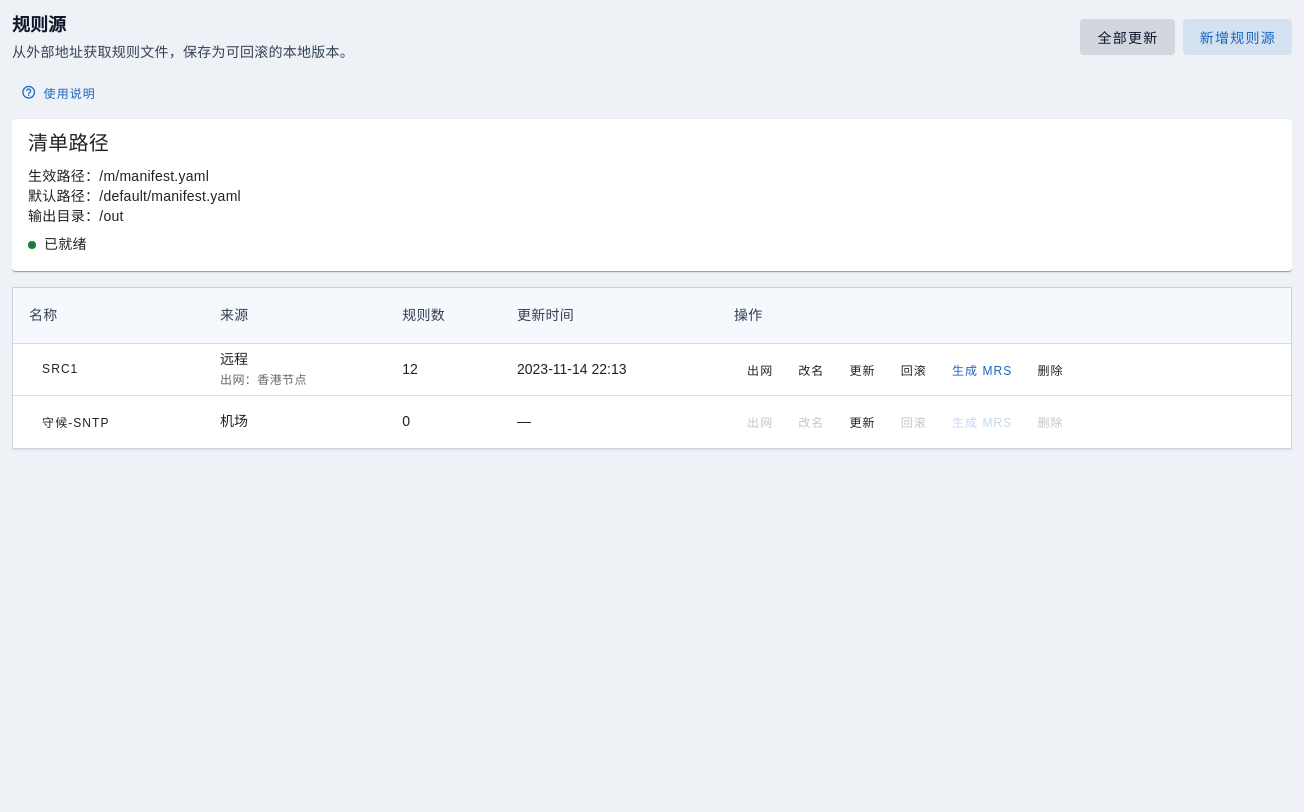
Test case: RuleSourcesPage › 点击全部更新成功，渲染 update-results
This screenshot has width=1304, height=812.
Click the button with test id "update-all".
click(1127, 38)  # box [1080,20,1175,56]
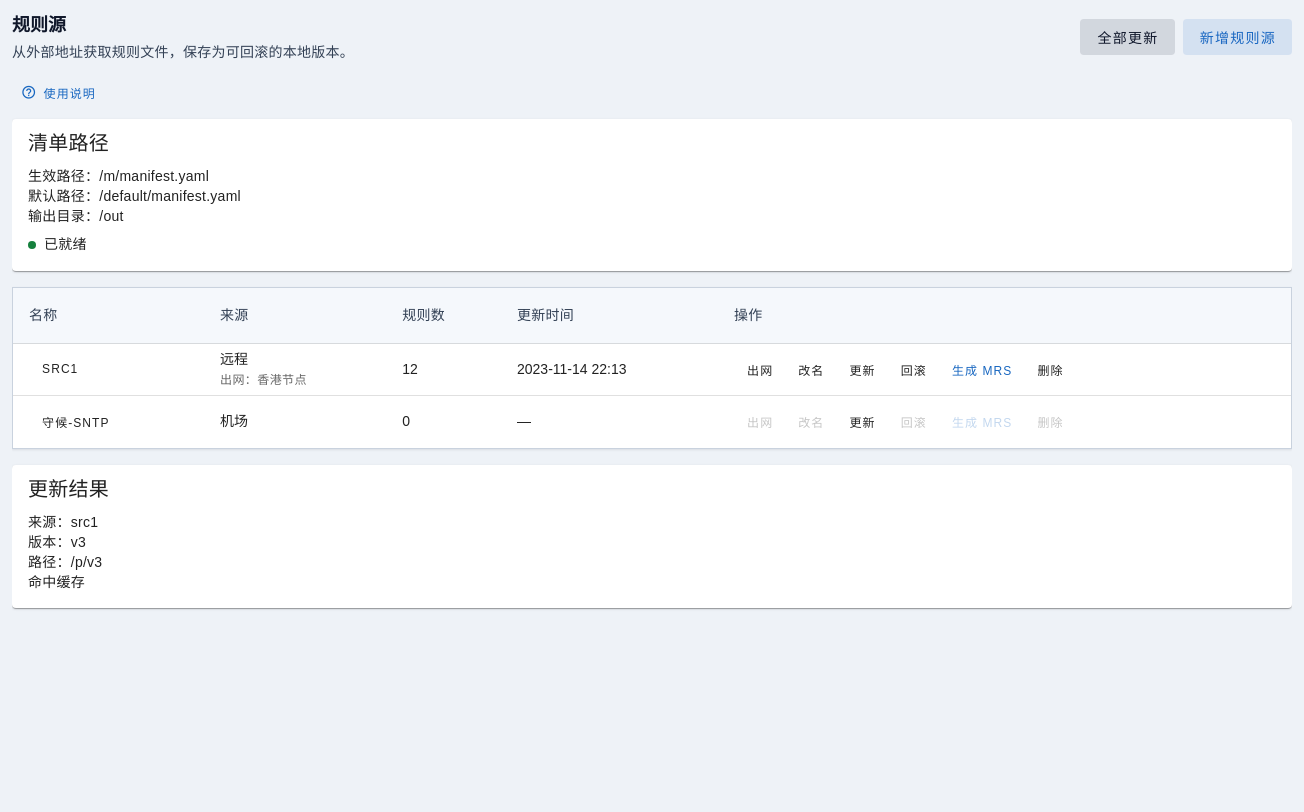
Check: the element with test id "update-results" is shown, box [12,465,1292,608]
Check: the text "命中缓存" is shown, box [28,574,85,590]
